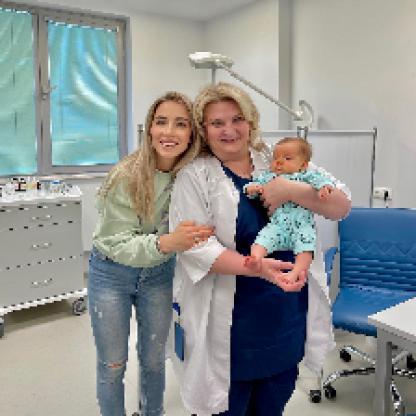child: (243, 137, 338, 287)
